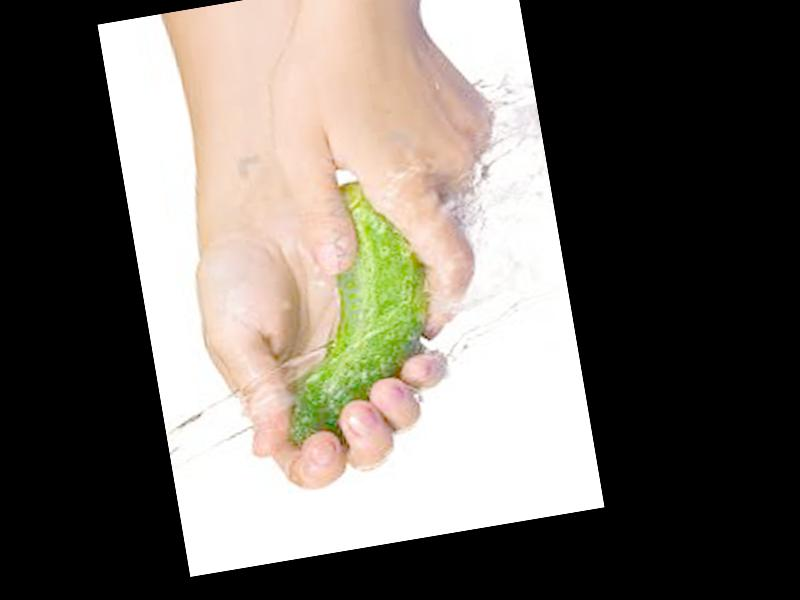Cucumber: (250, 169, 453, 447)
